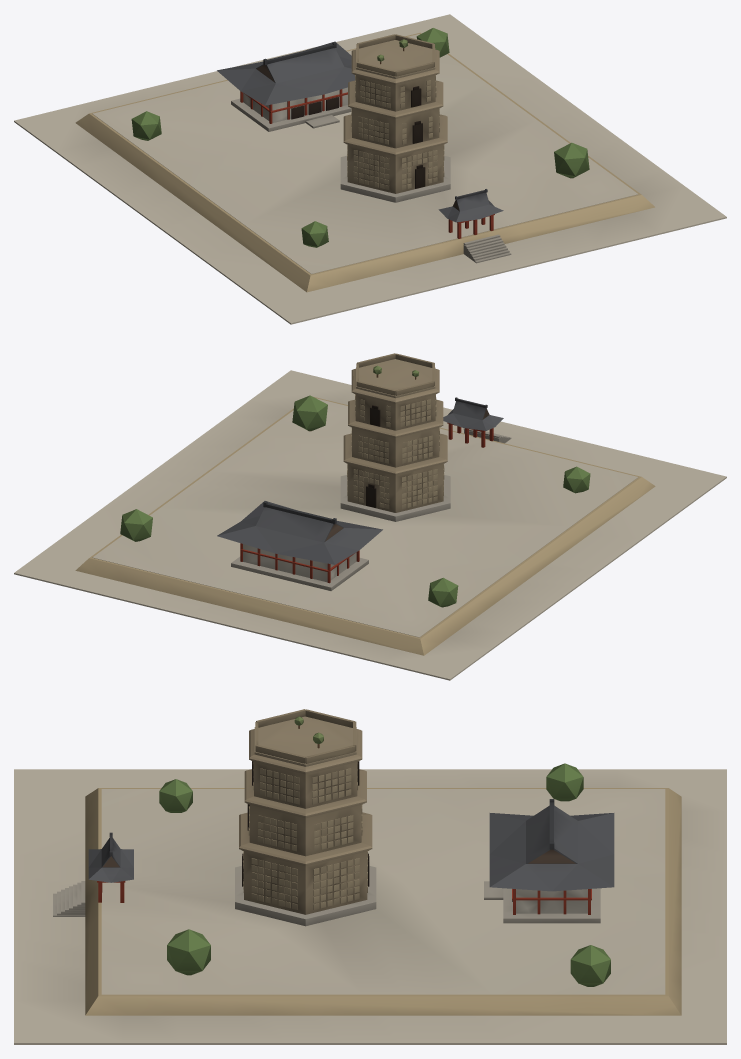
Rendered from fan-pagoda-ming.glb.
The picture shows the model from 3 angles, top to bottom: view 1: azimuth 30°, elevation 25°; view 2: azimuth 150°, elevation 25°; view 3: azimuth 270°, elevation 25°; orthographic projection. The views are drawn at different scales.
Visible parts, largest first — view 1: p0_terrace, p1_halls, p2_trees; view 2: p0_terrace, p1_halls, p2_trees; view 3: p0_terrace, p1_halls, p2_trees.
Part boxes in pixels (bbox=[...]): p0_terrace: bbox=[14, 14, 726, 324]; p1_halls: bbox=[231, 49, 503, 238]; p2_trees: bbox=[131, 28, 589, 247]; p0_terrace: bbox=[14, 370, 726, 680]; p1_halls: bbox=[231, 368, 503, 590]; p2_trees: bbox=[120, 353, 590, 607]; p0_terrace: bbox=[14, 769, 726, 1044]; p1_halls: bbox=[88, 729, 600, 923]; p2_trees: bbox=[159, 709, 614, 986].
Size of the model in its own units: 100 by 31.29 by 110.
